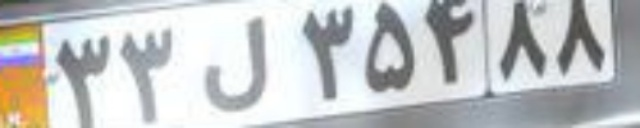3: (119, 27, 176, 122), (298, 4, 352, 100), (53, 35, 109, 126)
4: (423, 0, 474, 85)
5: (363, 4, 418, 92)
8: (494, 0, 547, 81), (554, 0, 605, 78)
lam: (204, 15, 265, 111)
